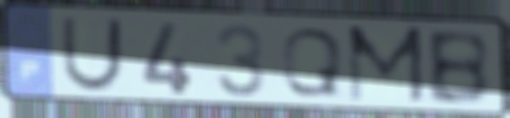3: (214, 21, 266, 98)
4: (138, 17, 197, 98)
B: (422, 28, 494, 108)
M: (344, 24, 428, 105)
Q: (278, 26, 346, 99)
U: (59, 15, 127, 94)
